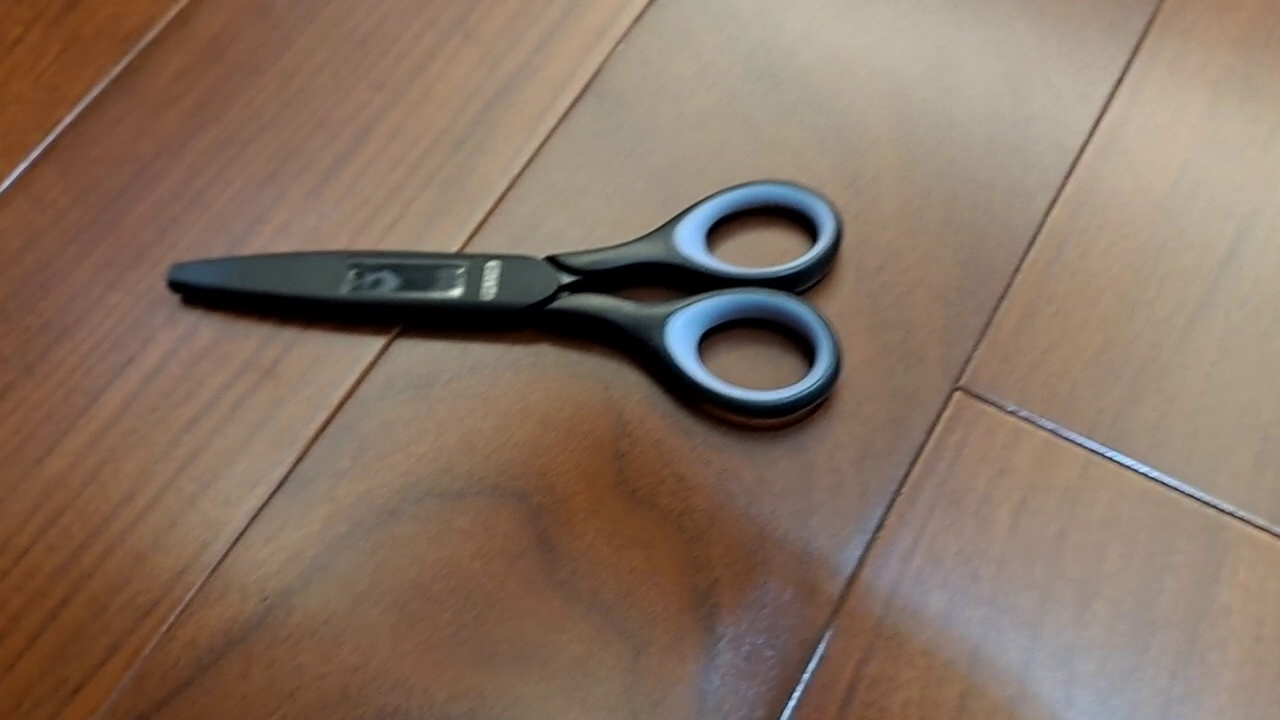scissors: (162, 177, 845, 421)
